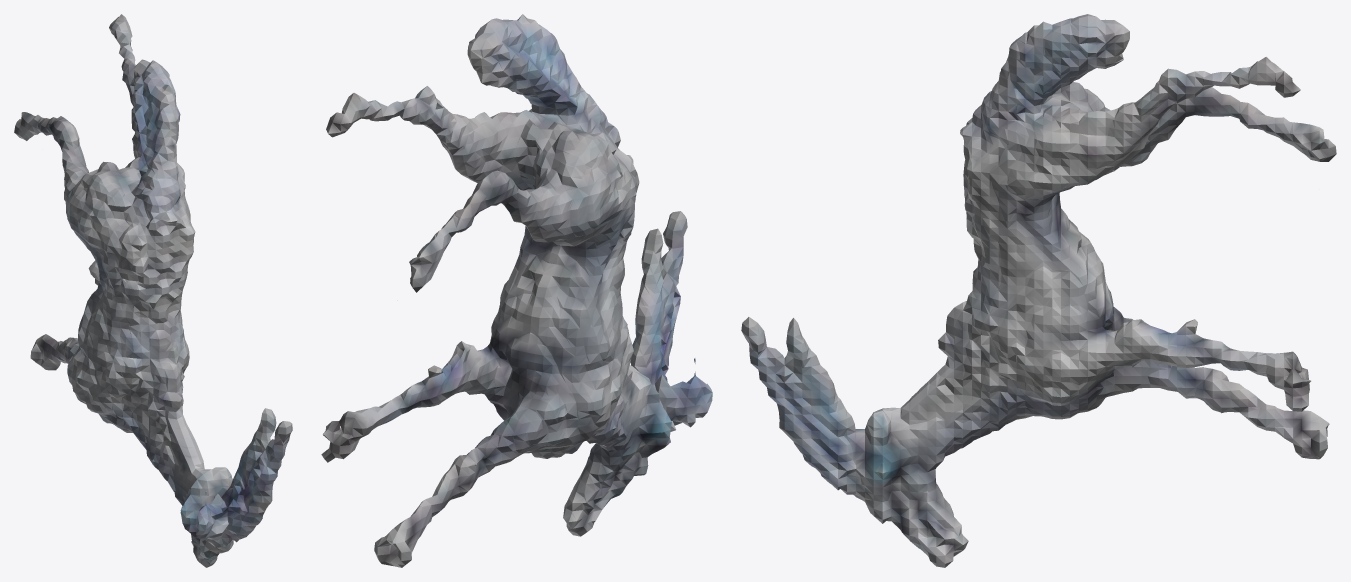
Rendered from evowild-s-triposr-side.glb.
3 renders of one model, left to right at view 1: azimuth 30°, elevation 25°; view 2: azimuth 150°, elevation 25°; view 3: azimuth 270°, elevation 25°, orthographic. The views are drawn at different scales.
Visible parts, largest first — view 1: world; view 2: world; view 3: world.
Part boxes in pixels (box(x1,y1,x2,y2)): world: box(14, 14, 292, 567); world: box(321, 14, 712, 567); world: box(741, 14, 1336, 567).
Bounding box in the file's own units: 0.3042 × 0.9419 × 0.9145.
